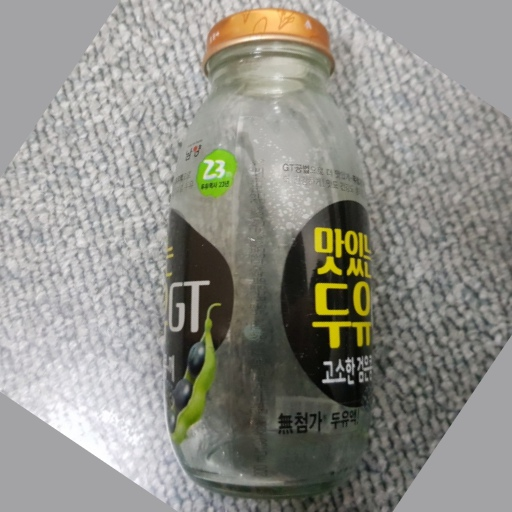Glass_4: (167, 9, 374, 492)
